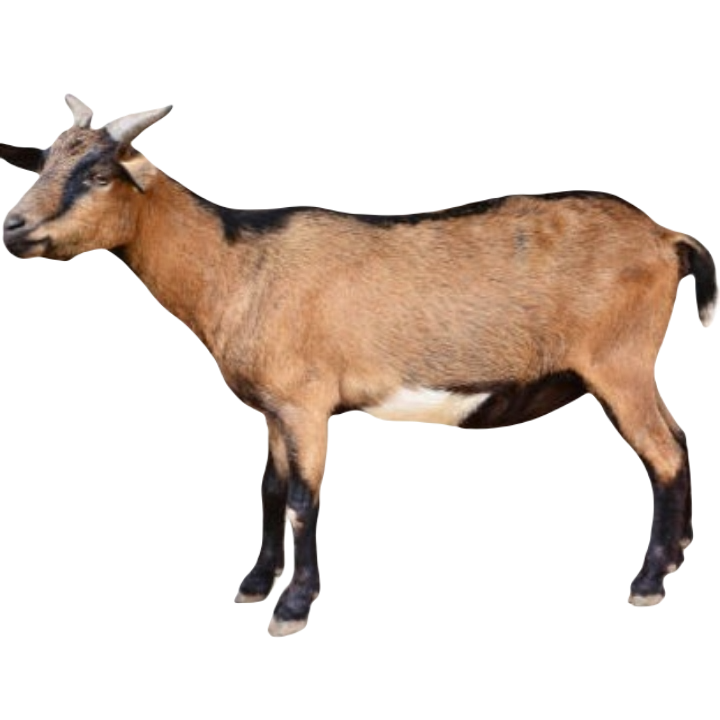Goat: (0, 91, 717, 638)
